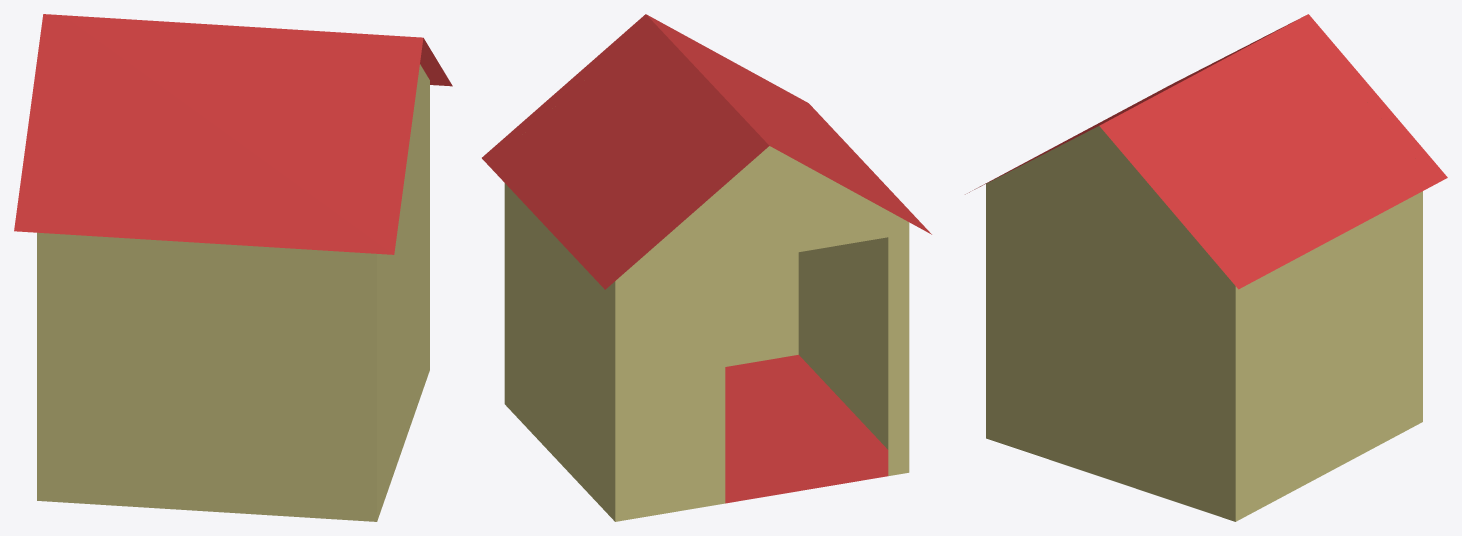
The picture shows the model from 3 angles, left to right: view 1: azimuth 30°, elevation 25°; view 2: azimuth 150°, elevation 25°; view 3: azimuth 270°, elevation 25°; orthographic projection. The views are drawn at different scales.
Size of the model in its own units: 13.54 by 13.62 by 11.11.
